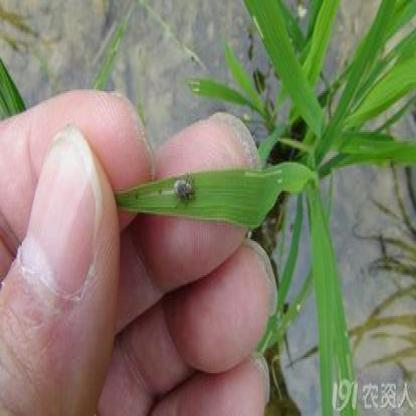rice-bug: (173, 176, 198, 206)
